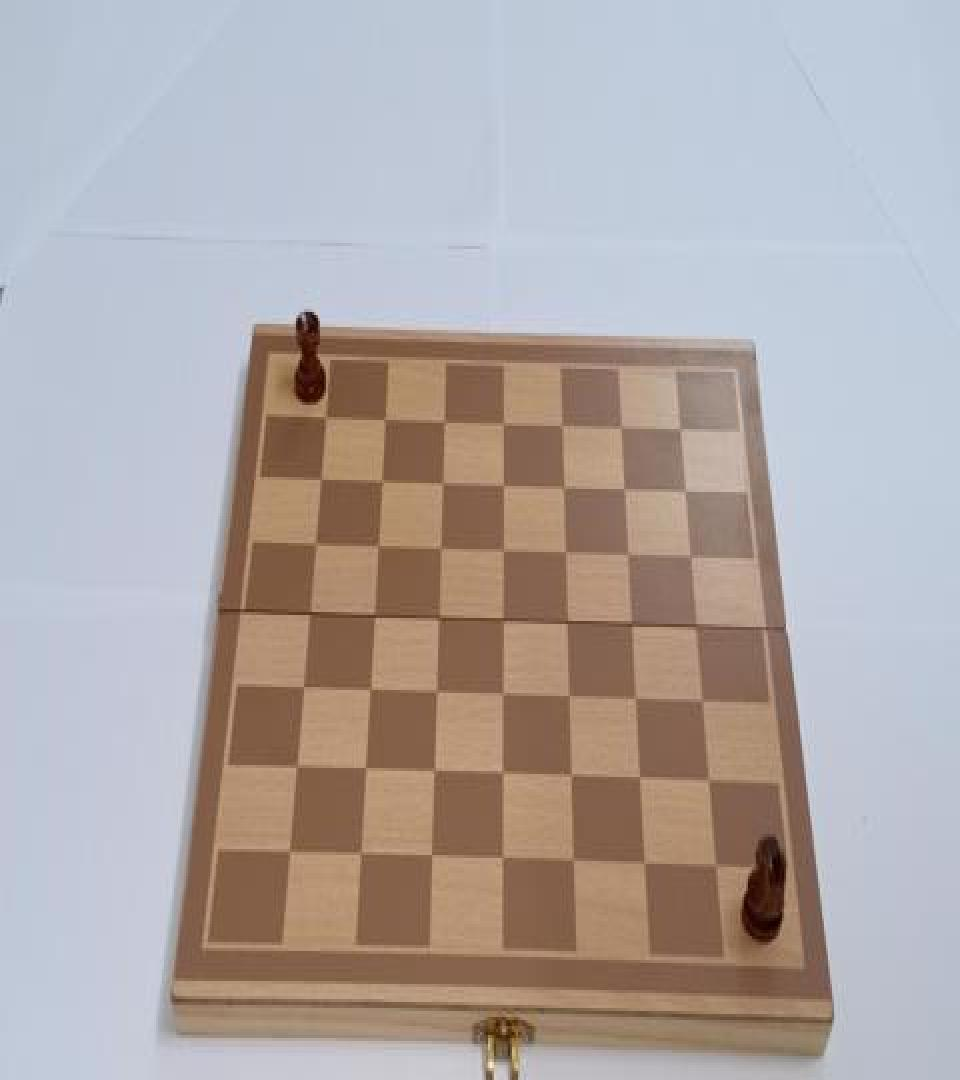xcorner: (369, 466, 387, 494), (491, 406, 509, 434), (491, 760, 509, 788), (615, 472, 633, 500), (313, 404, 331, 431), (308, 465, 326, 492), (302, 531, 320, 558), (296, 600, 314, 627), (290, 675, 308, 702), (283, 755, 301, 782), (276, 838, 294, 865), (372, 405, 390, 432), (365, 532, 383, 559), (361, 603, 379, 630), (357, 676, 375, 703), (352, 756, 370, 783), (432, 405, 450, 432), (430, 468, 448, 495), (428, 534, 446, 561), (426, 604, 444, 631), (421, 759, 439, 786), (419, 844, 437, 871), (491, 470, 509, 497), (491, 606, 509, 633), (491, 681, 509, 708), (491, 846, 509, 873), (551, 408, 569, 435), (553, 471, 571, 498), (555, 537, 573, 564), (559, 683, 577, 710), (563, 849, 581, 876), (618, 538, 636, 565), (622, 609, 640, 636), (631, 765, 649, 792), (636, 852, 654, 879), (671, 411, 689, 438), (677, 474, 695, 501), (682, 540, 700, 567), (688, 610, 706, 637), (695, 687, 713, 714), (702, 768, 720, 795), (709, 855, 727, 882), (347, 842, 365, 868), (424, 680, 442, 706), (491, 536, 509, 562), (557, 608, 575, 634), (561, 764, 579, 790), (611, 410, 629, 436), (627, 686, 645, 712)
